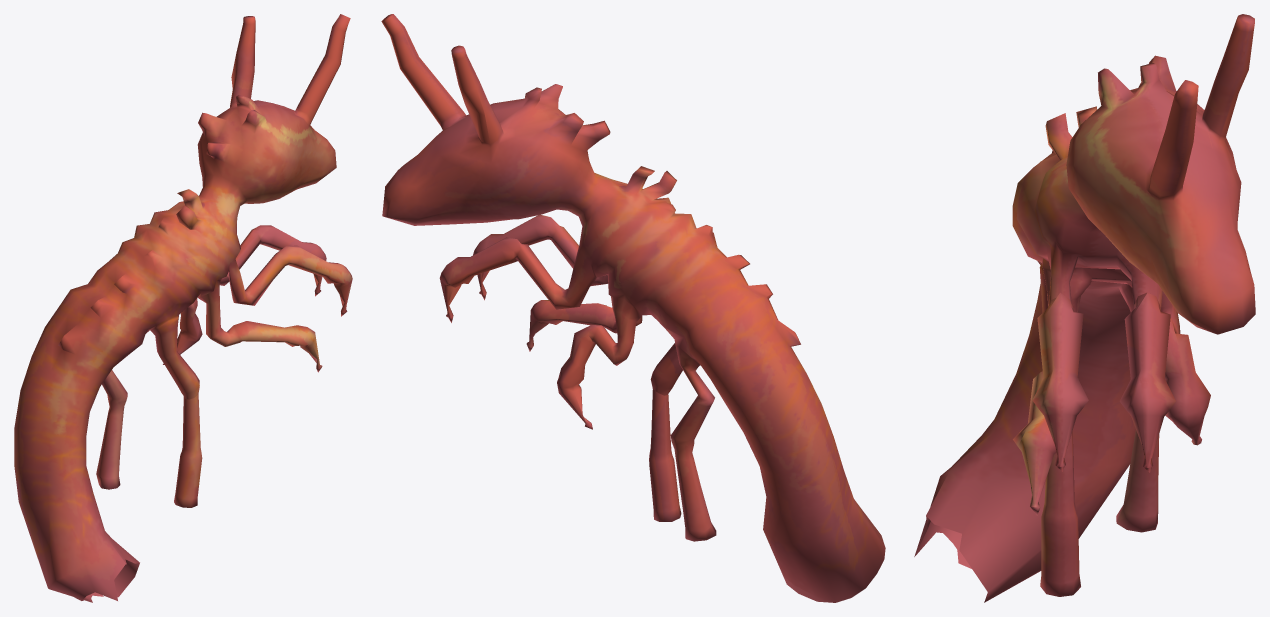
Rendered from ant.obj.
3 renders of one model, left to right at view 1: azimuth 30°, elevation 25°; view 2: azimuth 150°, elevation 25°; view 3: azimuth 270°, elevation 25°, orthographic. The views are drawn at different scales.
Bounding box in the file's own units: 2.32 × 2.88 × 1.18.
